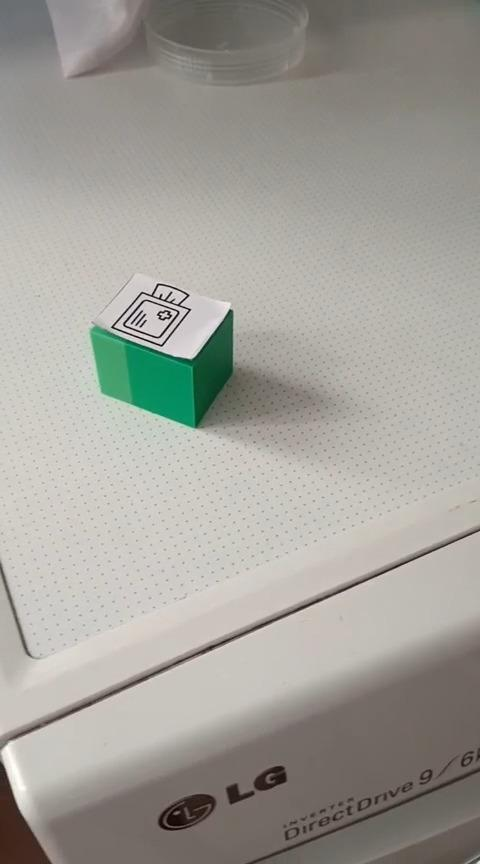Gauze: (88, 271, 235, 429)
